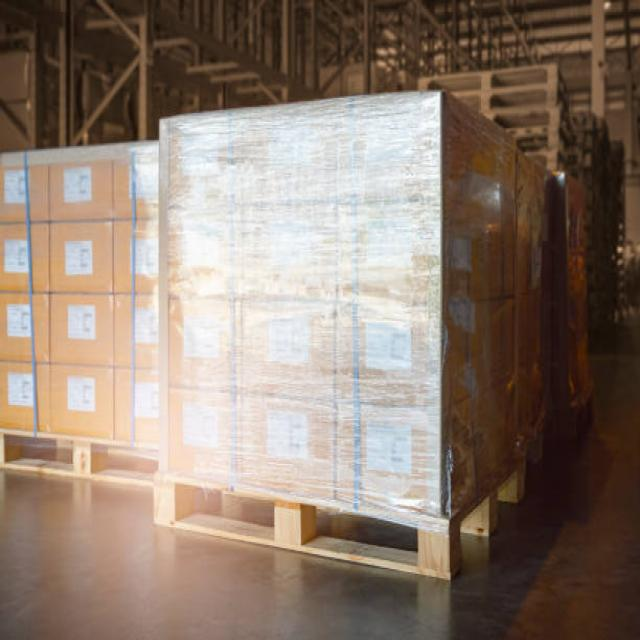Wooden-Pallets: (147, 416, 552, 592), (0, 416, 169, 491)
